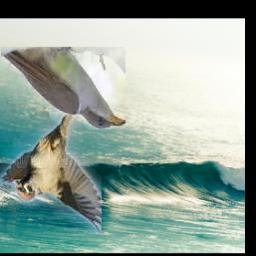Cuckoo: (2, 47, 127, 129)
Sparrow: (0, 94, 103, 236)
